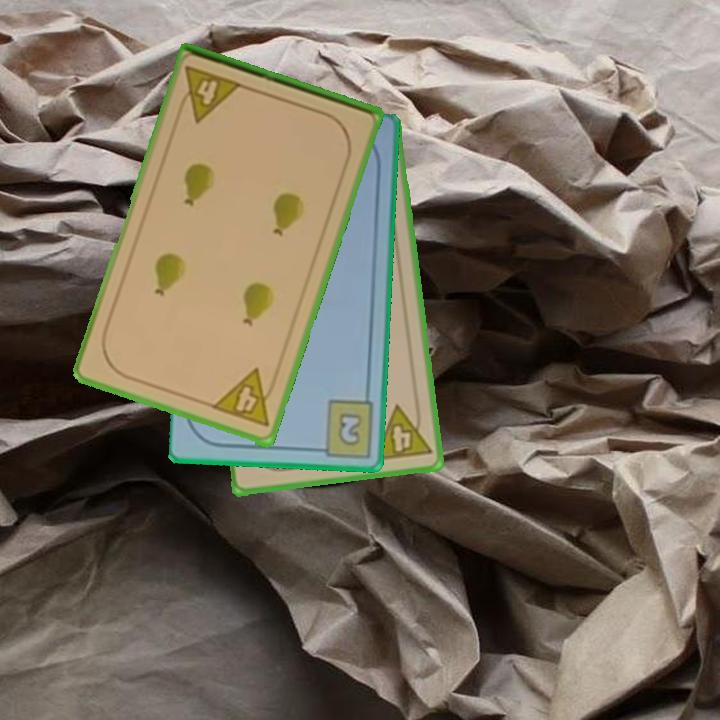2b: (310, 396, 377, 460)
4p: (208, 366, 281, 431), (173, 62, 245, 126), (369, 399, 434, 464)
